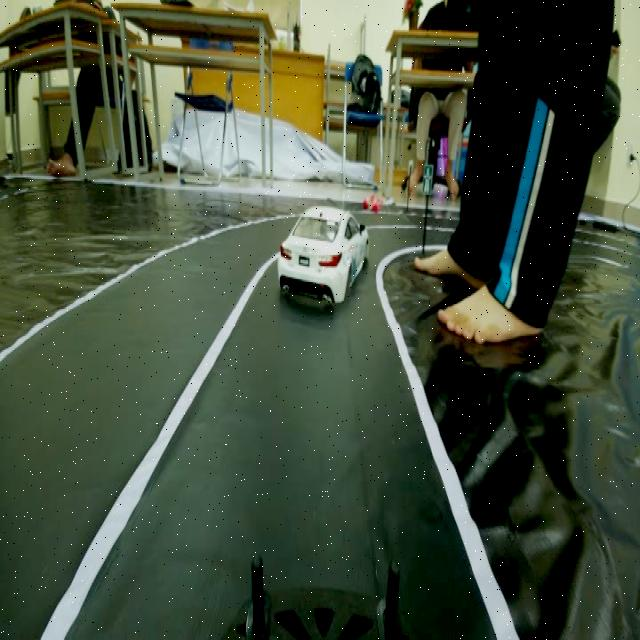car: (273, 200, 368, 323)
